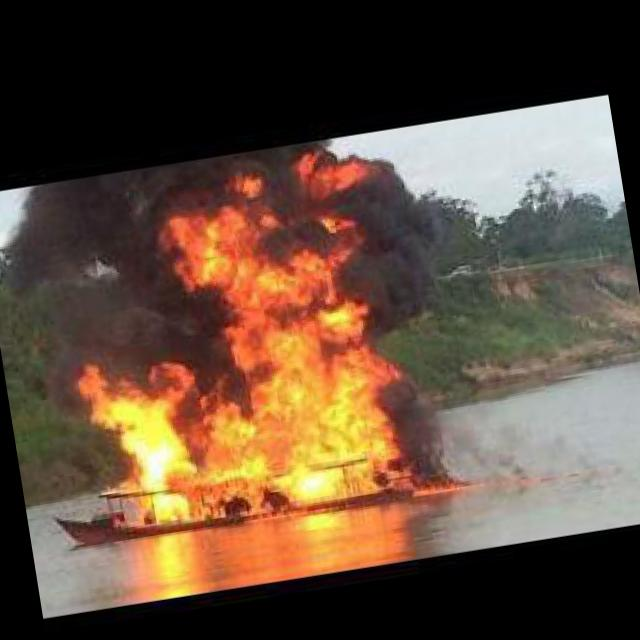fire: (58, 142, 414, 520), (240, 498, 332, 524), (416, 479, 466, 496)
